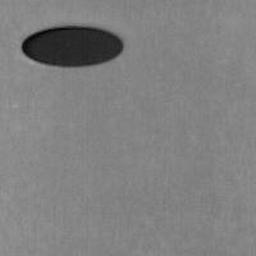Punching: (22, 27, 123, 67)
